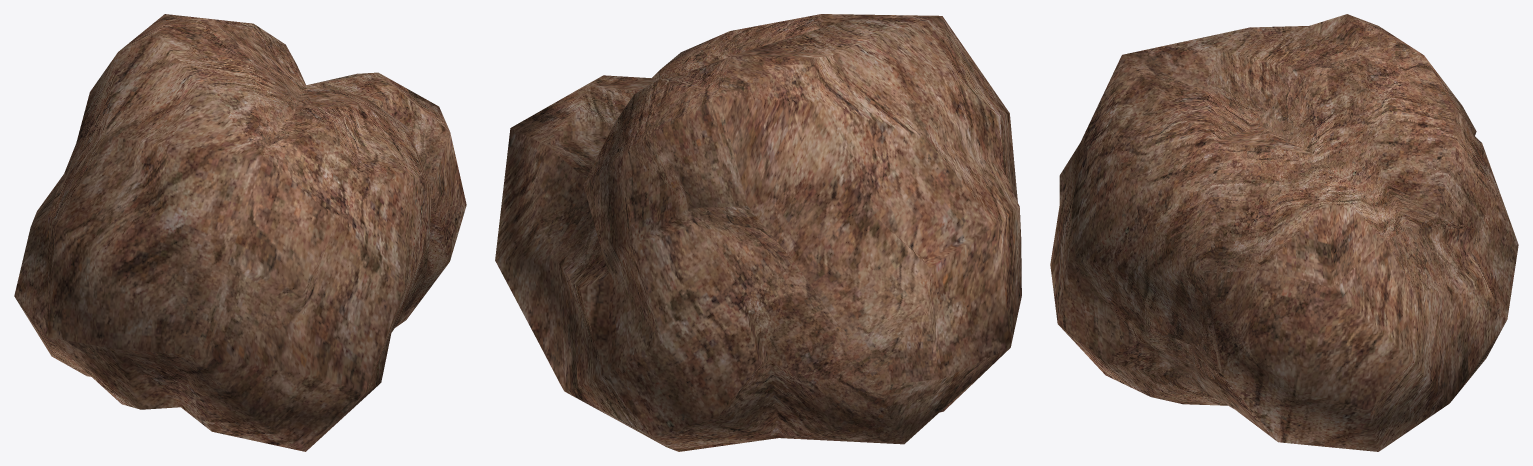
File: rock_dath_desertboulder_l0.fbx
The picture shows the model from 3 angles, left to right: view 1: azimuth 30°, elevation 25°; view 2: azimuth 150°, elevation 25°; view 3: azimuth 270°, elevation 25°; orthographic projection. The views are drawn at different scales.
Parts seen in each view (by area): view 1: mesh_node; view 2: mesh_node; view 3: mesh_node.
Part boxes in pixels (x1=…): mesh_node: x1=14, y1=14, x2=466, y2=451; mesh_node: x1=495, y1=14, x2=1021, y2=451; mesh_node: x1=1050, y1=14, x2=1518, y2=451.
Bounding box in the file's own units: 1.62 × 1.3 × 1.54.
